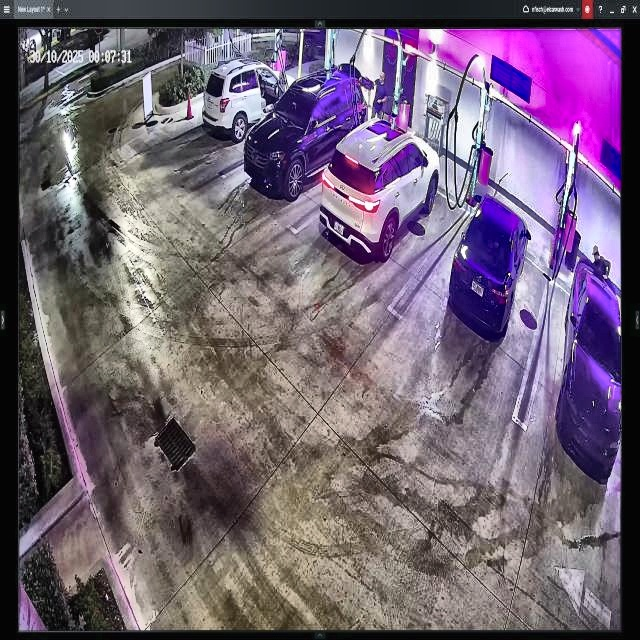Car: (322, 119, 440, 258), (243, 72, 369, 201), (448, 194, 530, 340), (202, 56, 297, 145)
